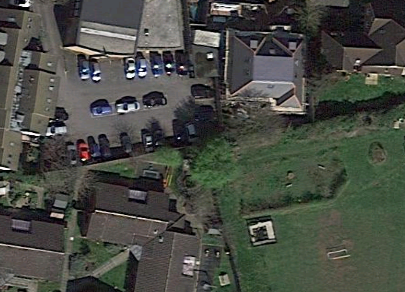tree: (178, 132, 252, 193)
